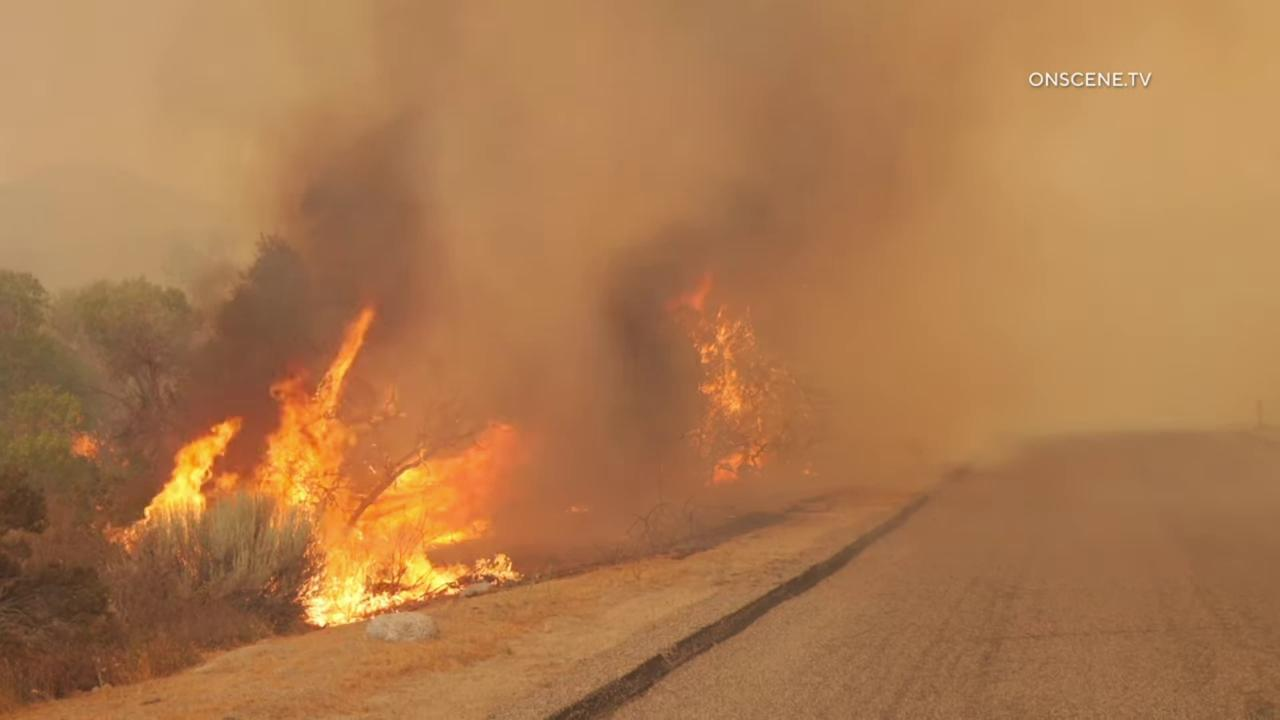fire: (249, 292, 528, 629), (658, 264, 796, 480), (98, 401, 248, 555), (64, 432, 106, 463), (564, 503, 594, 514)
smoke: (0, 0, 1280, 581)
